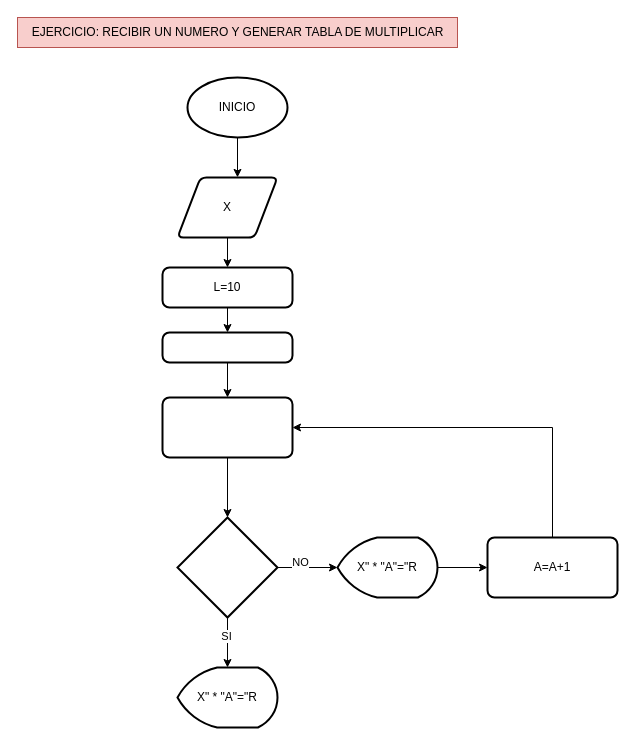
Some shapes in this 636 by 746 pixel diagram are drawn without their labels. Each missing label, with the centre of its shape:
A=1: [227,347]
A=L: [227,567]
R= X*A: [227,427]
